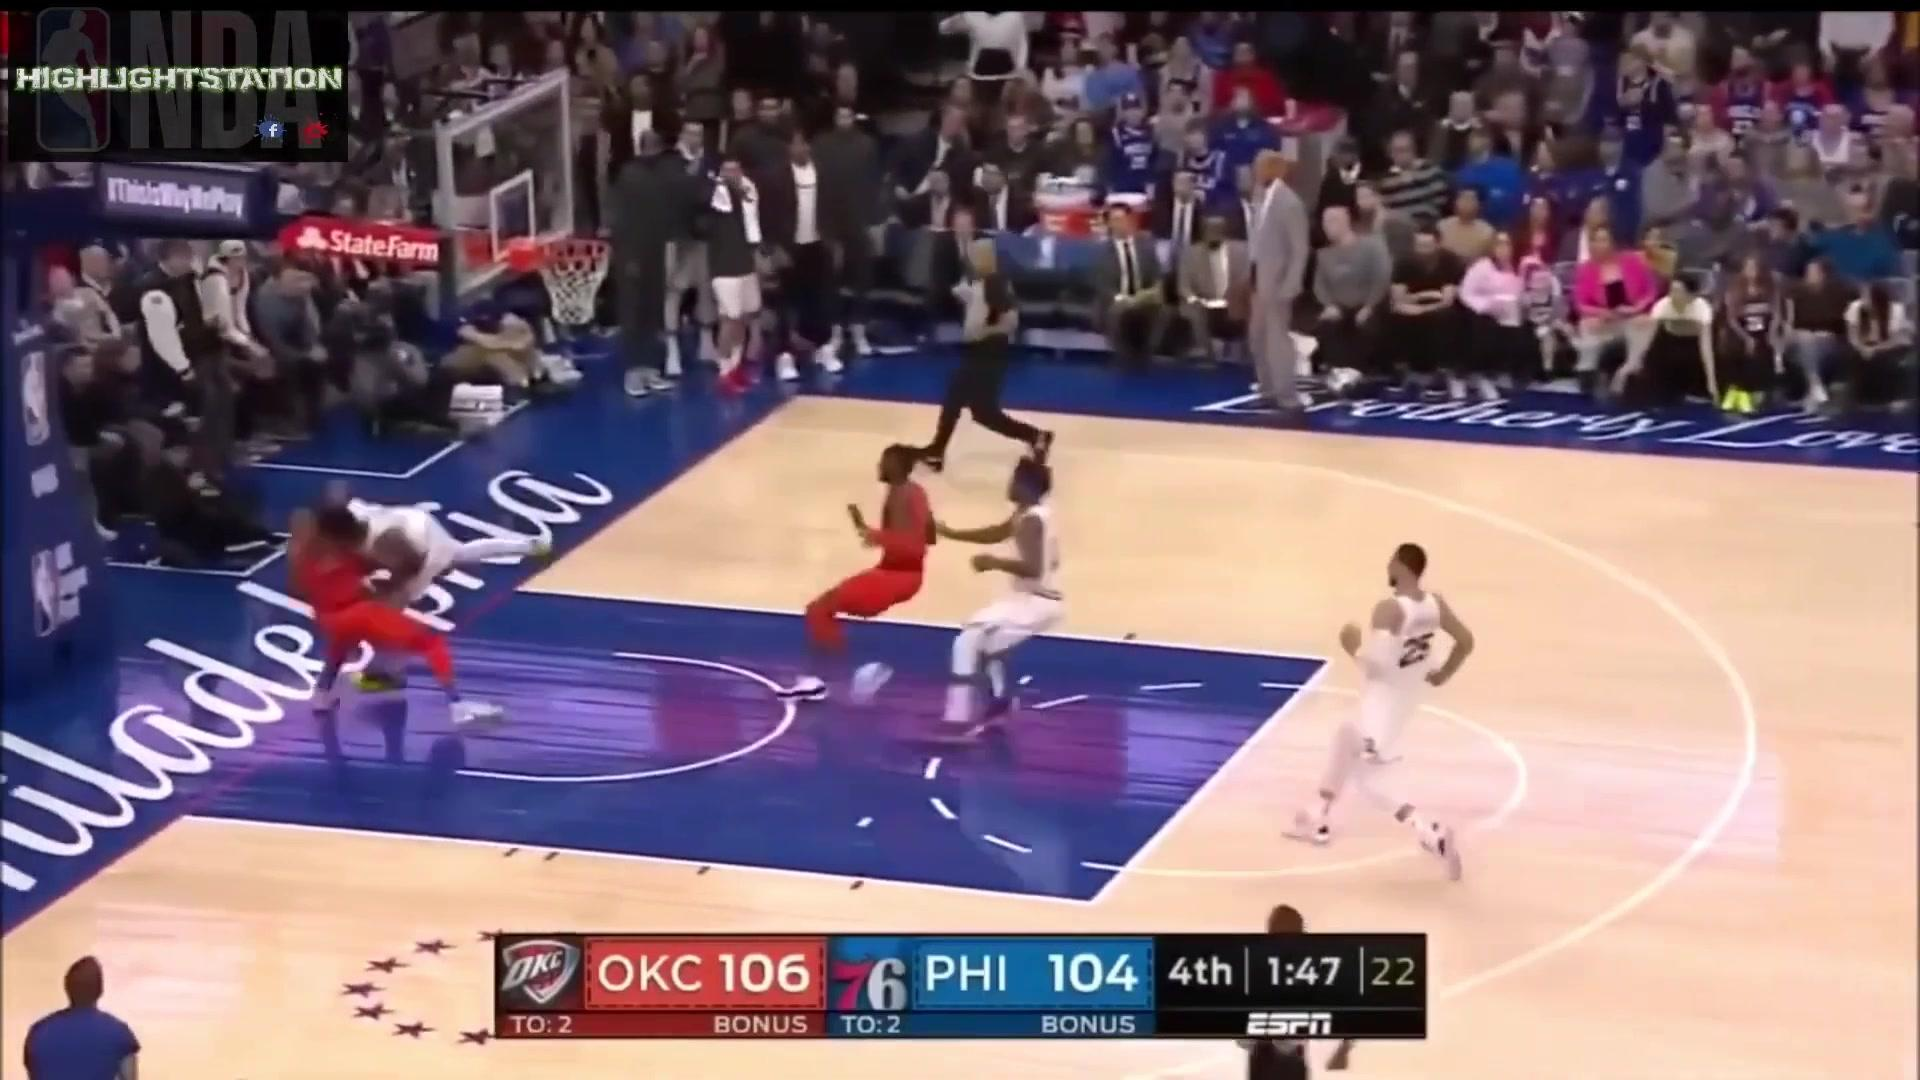foul: (280, 467, 547, 732)
